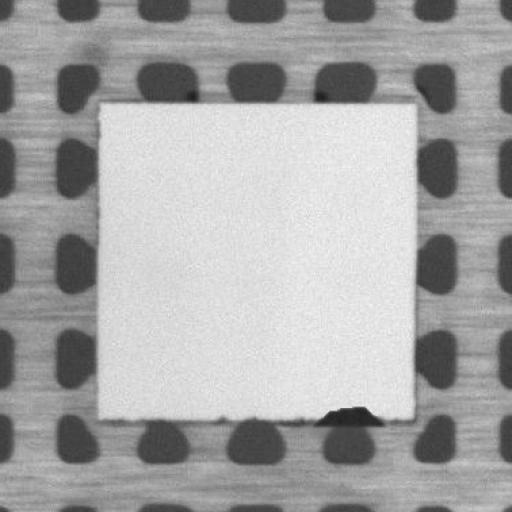DIE_BROKEN: (309, 403, 383, 424)
